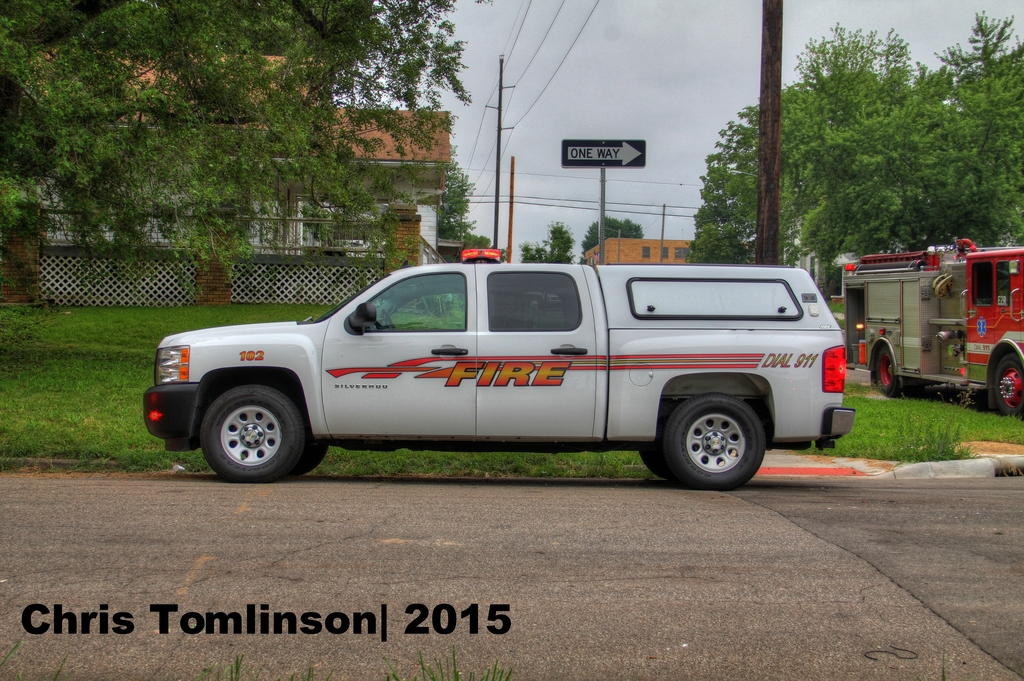Car: (140, 246, 856, 492)
